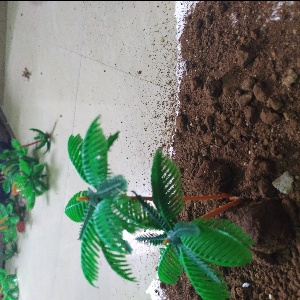plant: (66, 115, 255, 300)
